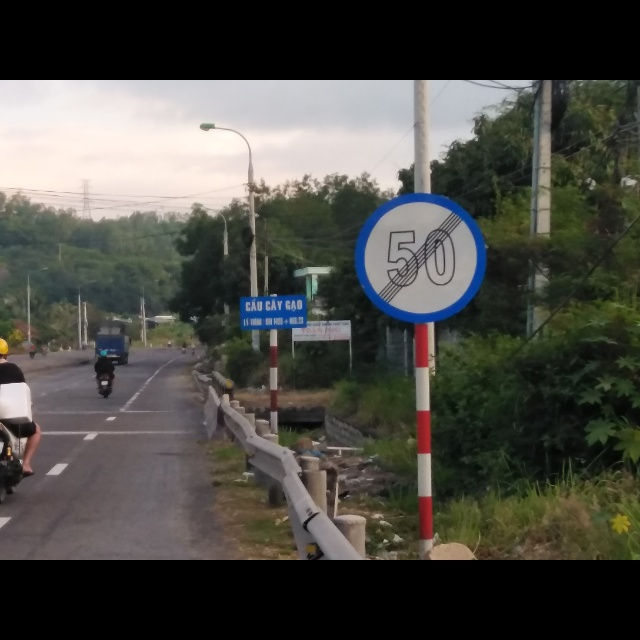Hết hạn chế tốc độ tối đa 50km/h: (351, 192, 489, 327)
